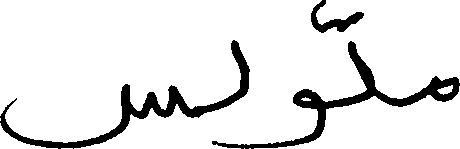X: (0, 79, 175, 148), (292, 0, 324, 148), (348, 7, 375, 110), (231, 35, 250, 148), (431, 71, 459, 106)
